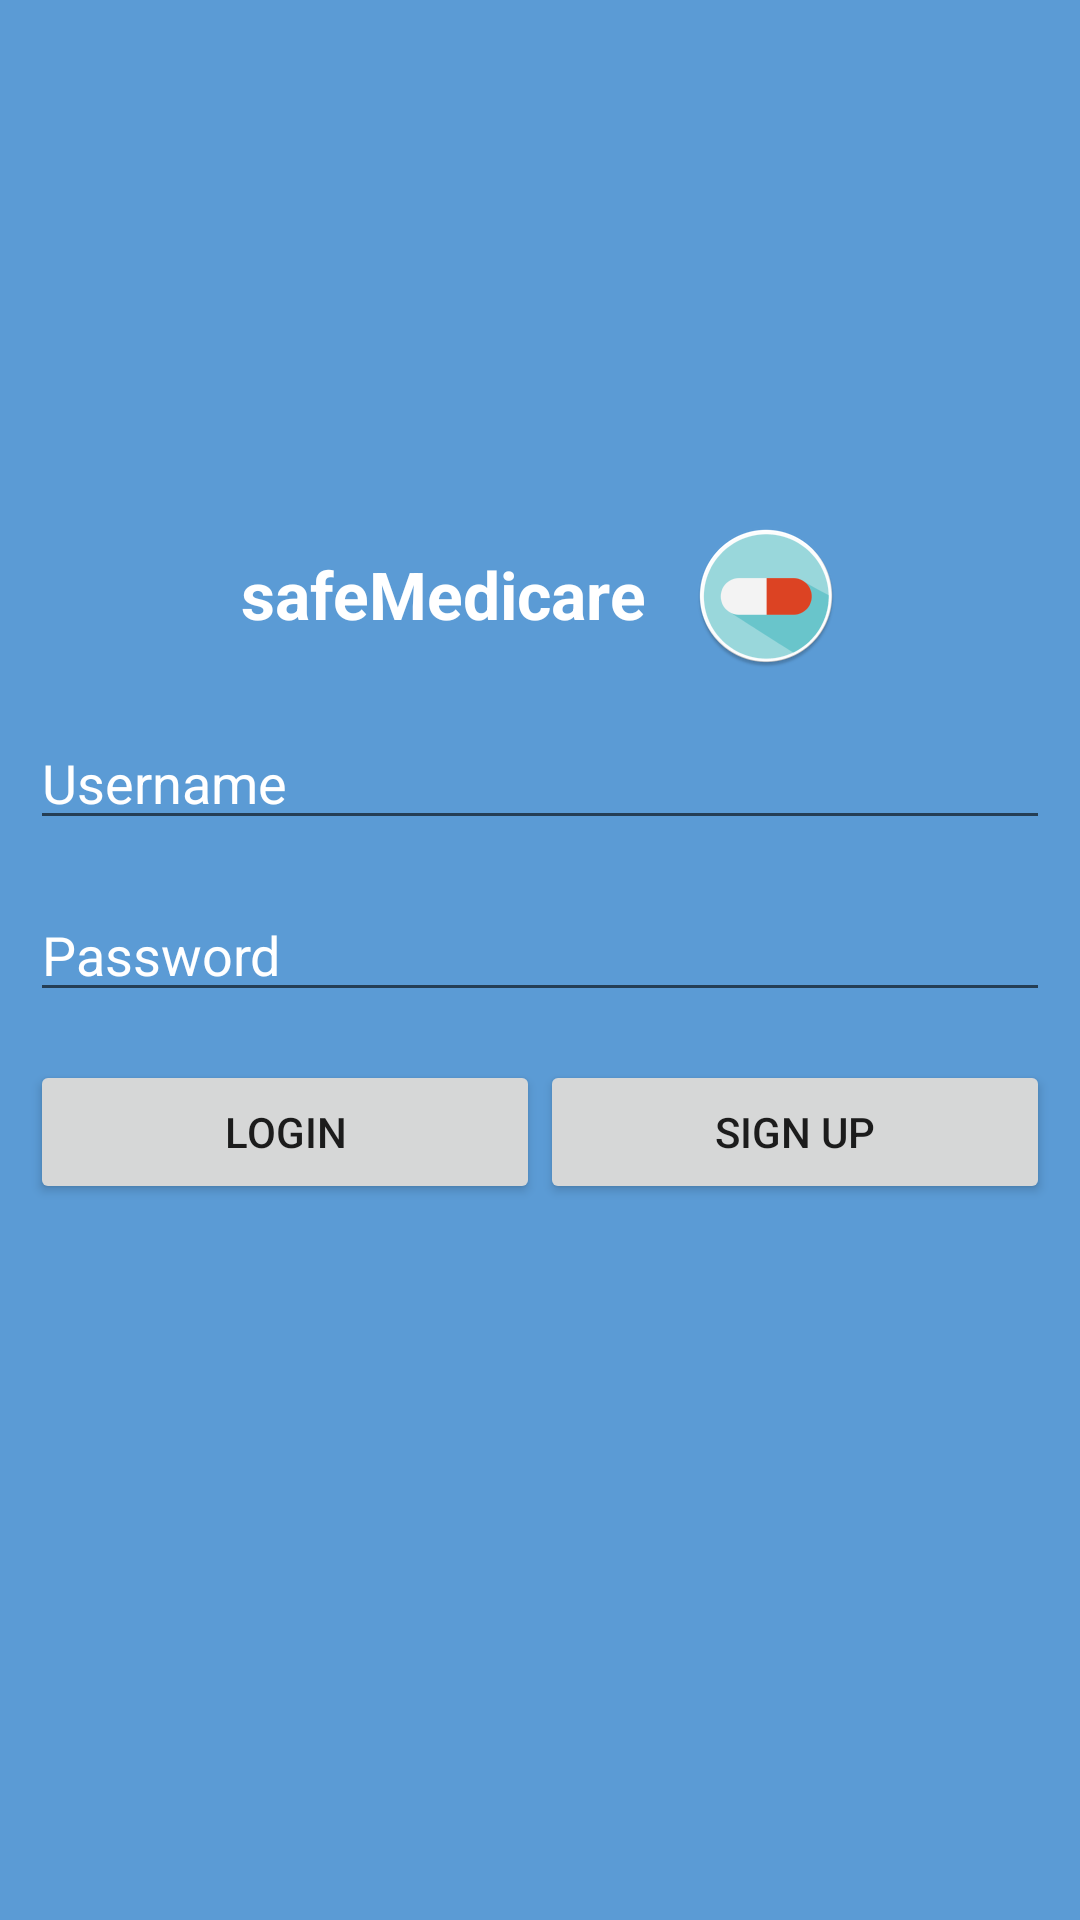

Named icons in this screenshot (1080x1920) and their bounding boxes, (x1, y1, x2, y2):
medicine launch: (700, 529, 832, 665)
